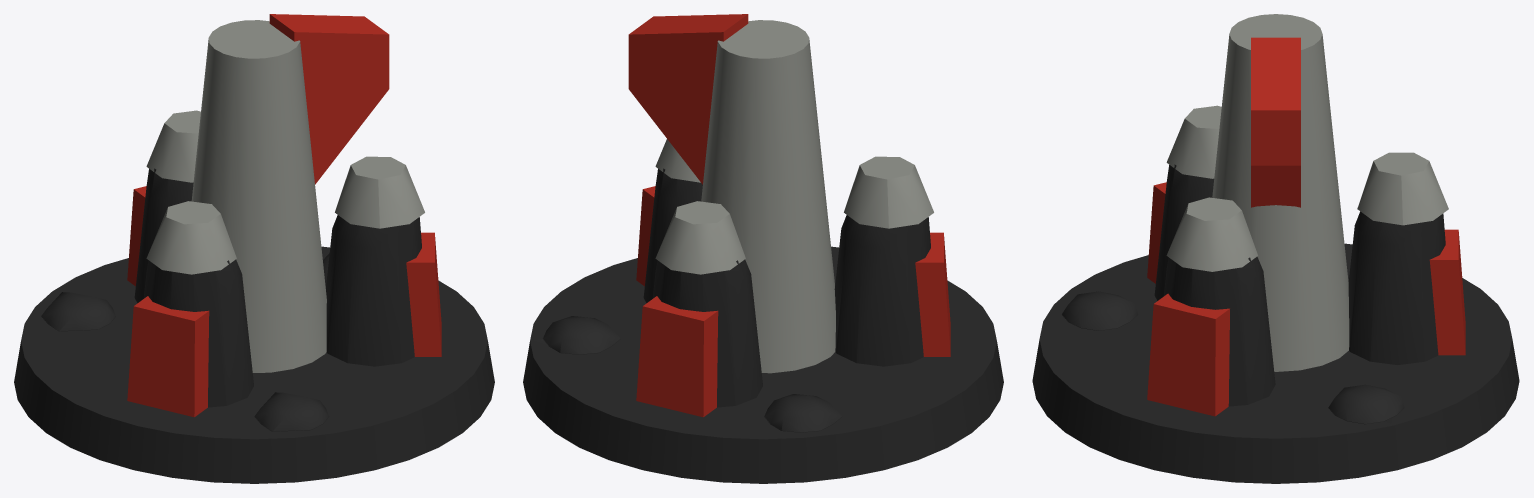
The model's file is ork_horde_2.glb.
3 renders of one model, left to right at view 1: azimuth 30°, elevation 25°; view 2: azimuth 150°, elevation 25°; view 3: azimuth 270°, elevation 25°, orthographic.
Parts seen in each view (by area): view 1: ork_horde_2; view 2: ork_horde_2; view 3: ork_horde_2.
Boxes of the visible parts, x1,y1,x2,y2 form: ork_horde_2: [14, 14, 494, 483]; ork_horde_2: [523, 14, 1003, 483]; ork_horde_2: [1032, 14, 1519, 483].
Size of the model in its own units: 13.6 by 11 by 13.6.
